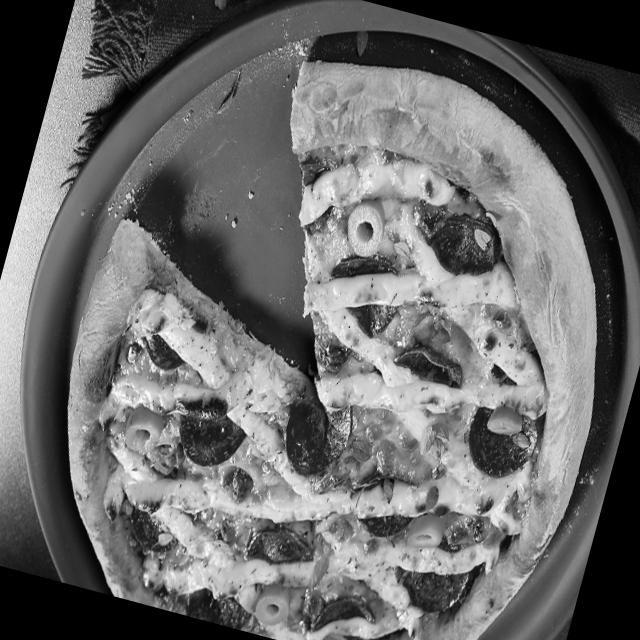pizza: (8, 0, 639, 639)
